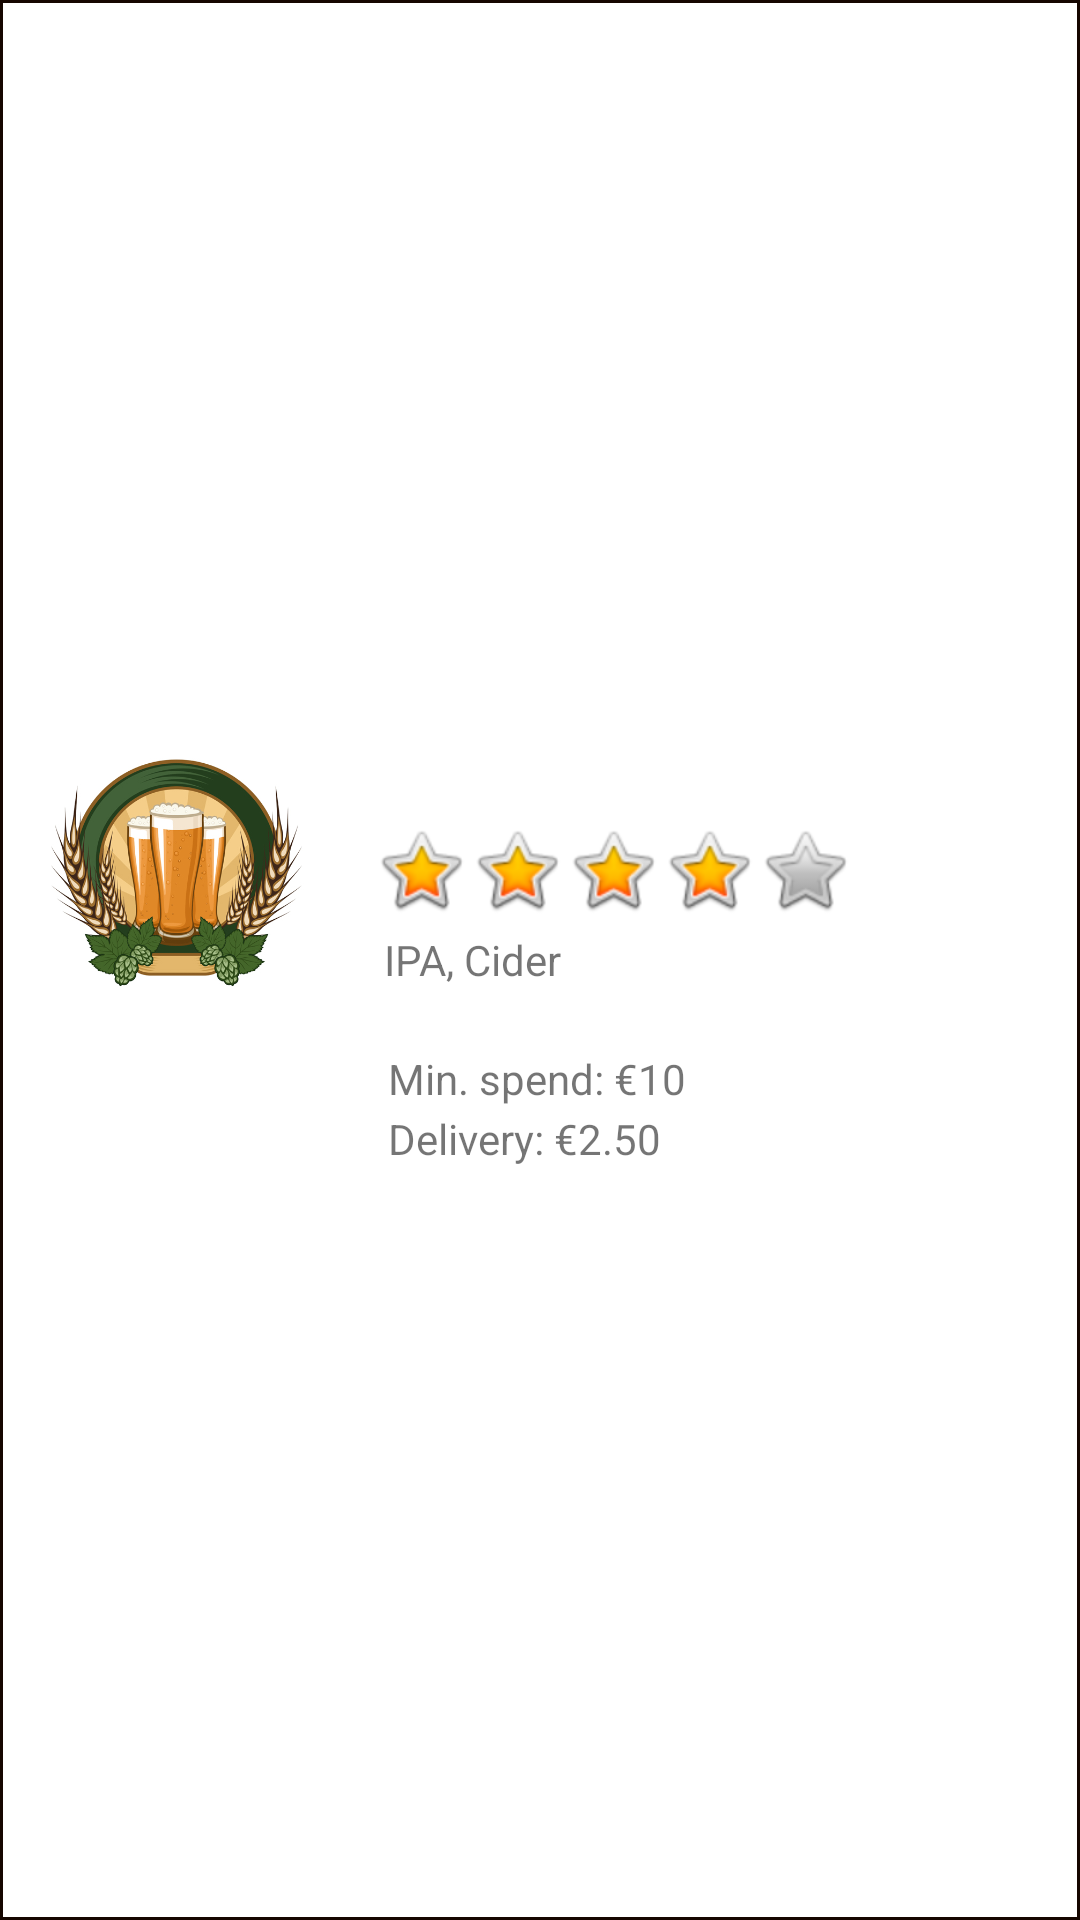

Where to tap for icons on this 1080px×1920px app screen, as [x,y]:
star off: [806,871]
star on: [422,871], [518,871], [614,871], [710,871]
